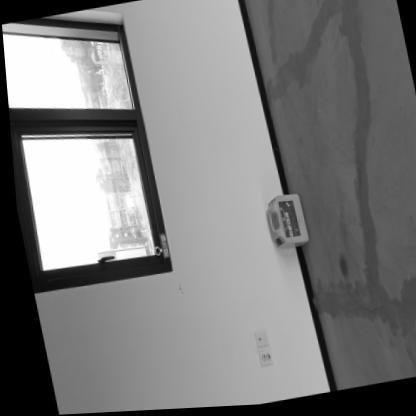DDL: (258, 197, 306, 253)
